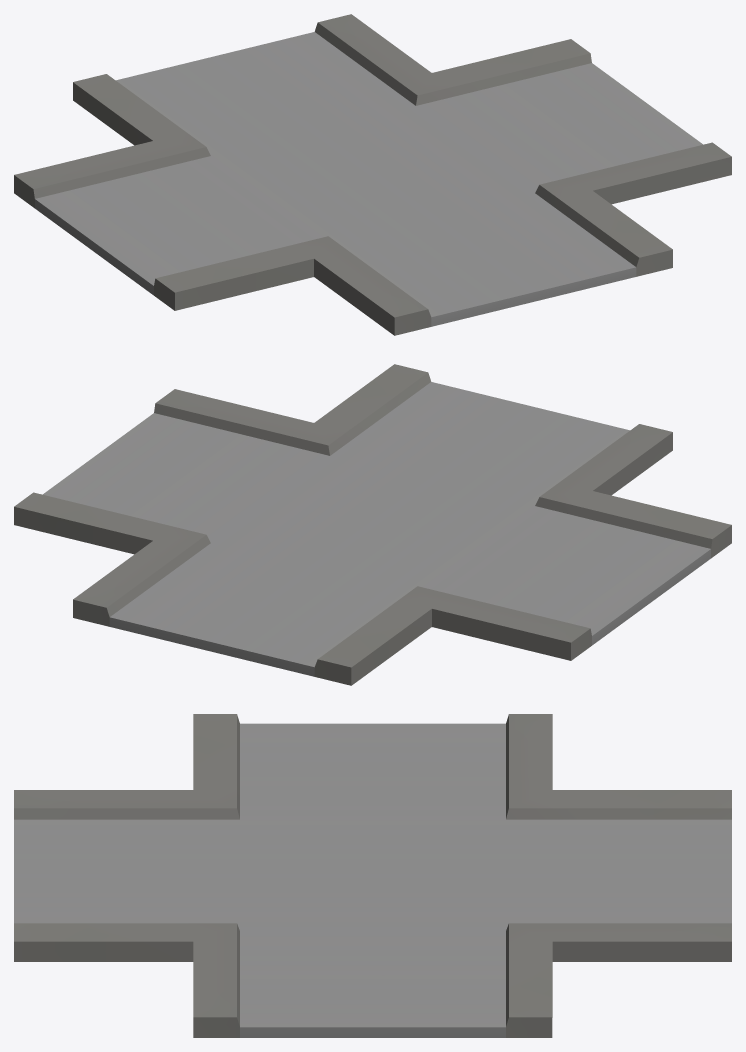
File: crossPavement.fbx
The picture shows the model from 3 angles, top to bottom: view 1: azimuth 30°, elevation 25°; view 2: azimuth 150°, elevation 25°; view 3: azimuth 270°, elevation 25°; orthographic projection. The views are drawn at different scales.
Visible parts, largest first — view 1: crossPavement; view 2: crossPavement; view 3: crossPavement.
Boxes of the visible parts, x1,y1,x2,y2 form: crossPavement: (14, 14, 731, 335); crossPavement: (14, 364, 731, 685); crossPavement: (14, 714, 731, 1037).
Size of the model in its own units: 200 by 6.28 by 200.
1 material, 1 textured.
